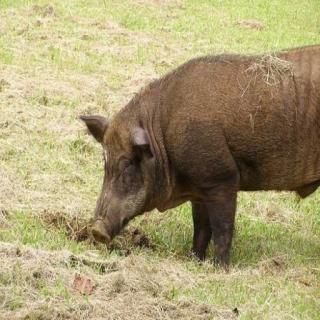Pig: (64, 35, 320, 311)
